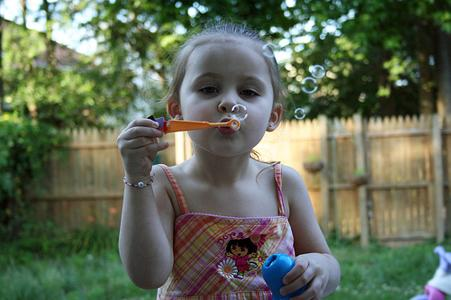person: (114, 26, 341, 299)
